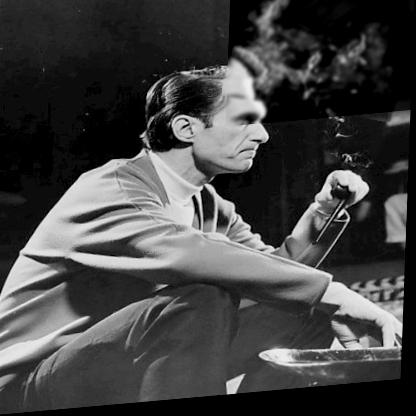smoke: (227, 0, 416, 131)
